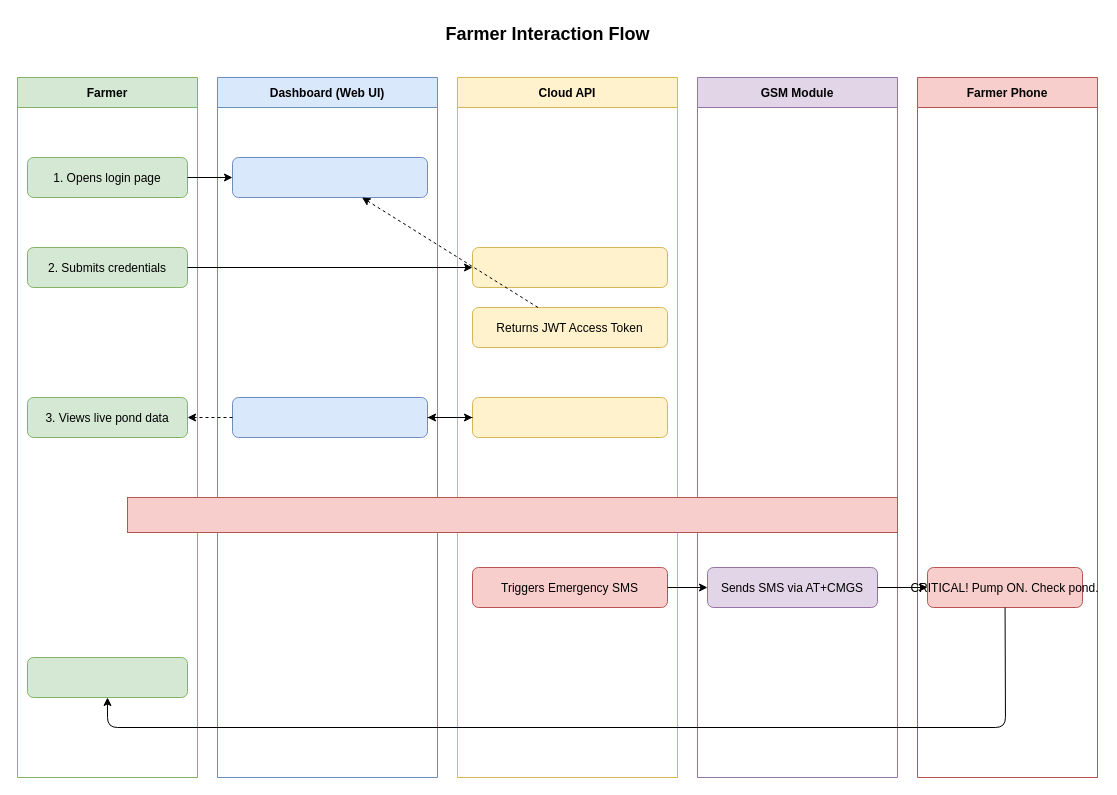
The diagram is 1117 pixels wide and 795 high, and some of its shapes have lost their labels. Each missing label, with the centre of its shape:
4. Opens dashboard for details: (x=107, y=677)
EMERGENCY — pH drops below 5.0 (Score = 80, CRITICAL): (x=512, y=514)
GET /current-readings: (x=570, y=417)
POST /auth/login or /google: (x=570, y=267)
Shows Login / Google button: (x=330, y=177)
Shows Temp, pH, EC, Score, ML Label: (x=330, y=417)
